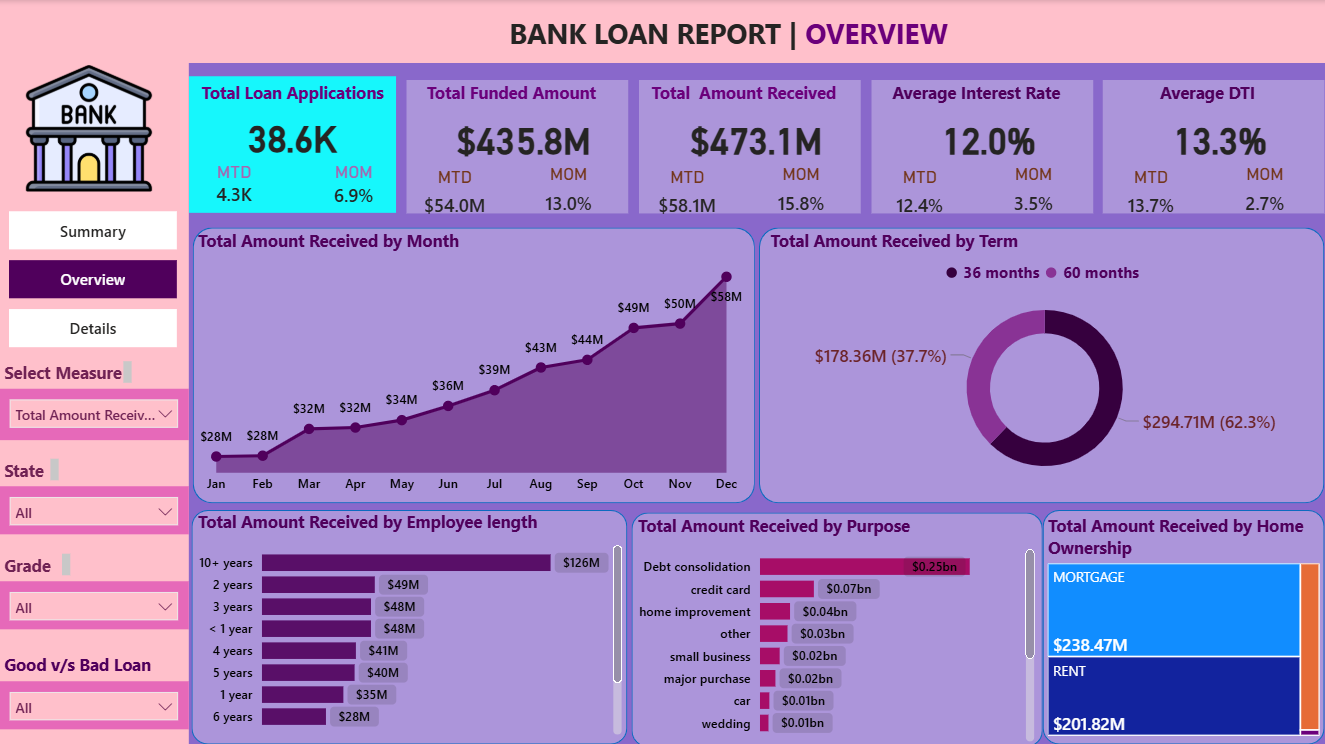

The dashboard page shown, as its layout file describes it:
{"tool":"powerbi","page":{"name":"Overview","canvas":[1280,720],"ordinal":1},"visuals":[{"type":"shape","box":[0,0,1279.8,60.9],"z":0},{"type":"shape","box":[182.8,73.7,199.8,131.8],"z":0,"group":"g1"},{"type":"shape","box":[393,77.2,214,129],"z":0,"group":"g2"},{"type":"shape","box":[617.2,77.2,214,129],"z":0,"group":"g3"},{"type":"shape","box":[841.5,77.2,214,129],"z":0,"group":"g4"},{"type":"shape","box":[1065.8,77.2,214,129],"z":0,"group":"g5"},{"type":"card","fields":{"Values":["Loan_report.Total Loan Applications"]},"box":[182.8,109.1,199.8,46.8],"z":1000,"group":"g1"},{"type":"card","fields":{"Values":["Loan_report.Total Funded Amount"]},"box":[406,109.8,199.8,46.8],"z":1000,"group":"g2"},{"type":"card","fields":{"Values":["Loan_report.Total Amount Received"]},"box":[630.2,109.8,199.8,46.8],"z":1000,"group":"g3"},{"type":"card","fields":{"Values":["Loan_report.Avg Interest Rate"]},"box":[854.5,109.8,199.8,46.8],"z":1000,"group":"g4"},{"type":"card","fields":{"Values":["Loan_report.Avg DTI"]},"box":[1078.8,109.8,199.8,46.8],"z":1000,"group":"g5"},{"type":"shape","box":[186.8,219.1,542.6,266.2],"z":1000},{"type":"shape","box":[0,54.3,183.4,666],"z":2000},{"type":"textbox","box":[182.8,73.7,199.8,35.4],"z":2000,"group":"g1"},{"type":"textbox","box":[393.6,73.7,199.8,35.4],"z":2000,"group":"g2"},{"type":"textbox","box":[617.8,73.7,199.8,35.4],"z":2000,"group":"g3"},{"type":"textbox","box":[842.1,73.7,199.8,35.4],"z":2000,"group":"g4"},{"type":"textbox","box":[1066.4,73.7,199.8,35.4],"z":2000,"group":"g5"},{"type":"textbox","box":[487.6,8.5,483.3,45.4],"z":3000},{"type":"card","title":"MTD","fields":{"Values":["Loan_report.MTD Loan Applications"]},"box":[201.2,155.9,51,48.2],"z":3000,"group":"g1"},{"type":"card","title":"MTD","fields":{"Values":["Loan_report.MTD Funded Amount"]},"box":[401.5,160.8,76.5,59.5],"z":3000,"group":"g2"},{"type":"card","title":"MTD","fields":{"Values":["Loan_report.MTD Amount Received"]},"box":[625.7,160.8,76.5,59.5],"z":3000,"group":"g3"},{"type":"card","title":"MTD","fields":{"Values":["Loan_report.MTD Avg Interest Rate"]},"box":[850,160.8,76.5,59.5],"z":3000,"group":"g4"},{"type":"card","title":"MTD","fields":{"Values":["Loan_report.MTD Avg DTI"]},"box":[1074.3,160.8,76.5,59.5],"z":3000,"group":"g5"},{"type":"group","id":"g1","title":"Group 1","box":[182.8,73.7,199.8,133.3],"z":4000},{"type":"card","title":"MOM","fields":{"Values":["Loan_report.MOM Loan Applications"]},"box":[308.6,155.9,67.2,51.1],"z":4000,"group":"g1"},{"type":"card","title":"MOM","fields":{"Values":["Loan_report.MOM Funded Amount"]},"box":[514.9,158,69.4,60.9],"z":4000,"group":"g2"},{"type":"card","title":"MOM","fields":{"Values":["Loan_report.MOM Amount Received"]},"box":[739.1,158,69.4,60.9],"z":4000,"group":"g3"},{"type":"card","title":"MOM","fields":{"Values":["Loan_report.MOM Avg Interest Rate"]},"box":[963.4,158,69.4,60.9],"z":4000,"group":"g4"},{"type":"card","title":"MOM","fields":{"Values":["Loan_report.MOM Avg DTI"]},"box":[1187.7,158,69.4,60.9],"z":4000,"group":"g5"},{"type":"group","id":"g2","title":"Group 1","box":[393,73.7,214,146],"z":5000},{"type":"group","id":"g3","title":"Group 1","box":[617.2,73.7,214,147.4],"z":6000},{"type":"group","id":"g4","title":"Group 1","box":[841.5,73.7,214,147.4],"z":7000},{"type":"group","id":"g5","title":"Group 1","box":[1065.8,73.7,214,147.4],"z":8000},{"type":"slicer","fields":{"Values":["Loan_report.address_state"]},"box":[0,469.1,182.8,46.8],"z":9000},{"type":"textbox","box":[0,438,62.4,31.2],"z":10000},{"type":"slicer","fields":{"Values":["Loan_report.Good v/s Bad loan"]},"box":[0,657.6,182.8,46.8],"z":11000},{"type":"textbox","box":[0,530.1,73.7,31.2],"z":12000},{"type":"slicer","fields":{"Values":["Loan_report.grade"]},"box":[0,561.3,182.8,46.8],"z":13000},{"type":"textbox","box":[0,625,182.8,32.6],"z":14000},{"type":"areaChart","fields":{"Y":["Loan_report.Total Amount Received"],"Category":["Date Table.Month"]},"box":[186.8,220.6,538.2,264.7],"z":15000},{"type":"slicer","fields":{"Values":["Select Measure.Select Measure"]},"box":[0,375.6,182.8,49.6],"z":16000},{"type":"textbox","box":[0,344.4,133.2,31.2],"z":17000},{"type":"shape","box":[733.8,219.1,545.6,266.2],"z":18000},{"type":"donutChart","fields":{"Y":["Loan_report.Total Amount Received"],"Category":["Loan_report.term"]},"box":[739.7,220.6,539.7,254.4],"z":19000},{"type":"shape","box":[185.3,492.6,420.6,226.5],"z":20000},{"type":"barChart","fields":{"Y":["Loan_report.Total Amount Received"],"Category":["Loan_report.emp_length"]},"box":[186.8,492.6,419.1,222.1],"z":21000},{"type":"shape","box":[610.3,494.1,397.1,226.5],"z":22000},{"type":"barChart","fields":{"Y":["Loan_report.Total Amount Received"],"Category":["Loan_report.purpose"]},"box":[611.8,495.6,392.6,225],"z":23000},{"type":"shape","box":[1007.4,492.6,272.1,226.5],"z":24000},{"type":"treemap","fields":{"Values":["Loan_report.Total Amount Received"],"Group":["Loan_report.home_ownership"]},"box":[1007.4,495.6,272.1,219.1],"z":25000},{"type":"pageNavigator","box":[9.9,204.1,163,133.2],"z":26000},{"type":"image","box":[0,58.1,172.9,131.8],"z":27000}]}

Visuals, with their boxes in screenshot pixels (x1, y1, x2, y2), scaled from the page's 1280x720 canvas onto the 1325x744 screenshot:
shape: [x1=0, y1=0, x2=1324, y2=63]
shape: [x1=189, y1=76, x2=396, y2=212]
shape: [x1=407, y1=80, x2=628, y2=213]
shape: [x1=639, y1=80, x2=860, y2=213]
shape: [x1=871, y1=80, x2=1093, y2=213]
shape: [x1=1103, y1=80, x2=1324, y2=213]
card - Loan_report.Total Loan Applications: [x1=189, y1=113, x2=396, y2=161]
card - Loan_report.Total Funded Amount: [x1=420, y1=113, x2=627, y2=162]
card - Loan_report.Total Amount Received: [x1=652, y1=113, x2=859, y2=162]
card - Loan_report.Avg Interest Rate: [x1=885, y1=113, x2=1091, y2=162]
card - Loan_report.Avg DTI: [x1=1117, y1=113, x2=1324, y2=162]
shape: [x1=193, y1=226, x2=755, y2=501]
shape: [x1=0, y1=56, x2=190, y2=743]
textbox: [x1=189, y1=76, x2=396, y2=113]
textbox: [x1=407, y1=76, x2=614, y2=113]
textbox: [x1=640, y1=76, x2=846, y2=113]
textbox: [x1=872, y1=76, x2=1079, y2=113]
textbox: [x1=1104, y1=76, x2=1311, y2=113]
textbox: [x1=505, y1=9, x2=1005, y2=56]
"MTD" card: [x1=208, y1=161, x2=261, y2=211]
"MTD" card: [x1=416, y1=166, x2=495, y2=228]
"MTD" card: [x1=648, y1=166, x2=727, y2=228]
"MTD" card: [x1=880, y1=166, x2=959, y2=228]
"MTD" card: [x1=1112, y1=166, x2=1191, y2=228]
"Group 1" group: [x1=189, y1=76, x2=396, y2=214]
"MOM" card: [x1=319, y1=161, x2=389, y2=214]
"MOM" card: [x1=533, y1=163, x2=605, y2=226]
"MOM" card: [x1=765, y1=163, x2=837, y2=226]
"MOM" card: [x1=997, y1=163, x2=1069, y2=226]
"MOM" card: [x1=1229, y1=163, x2=1301, y2=226]
"Group 1" group: [x1=407, y1=76, x2=628, y2=227]
"Group 1" group: [x1=639, y1=76, x2=860, y2=228]
"Group 1" group: [x1=871, y1=76, x2=1093, y2=228]
"Group 1" group: [x1=1103, y1=76, x2=1324, y2=228]
slicer - Loan_report.address_state: [x1=0, y1=485, x2=189, y2=533]
textbox: [x1=0, y1=453, x2=65, y2=485]
slicer - Loan_report.Good v/s Bad loan: [x1=0, y1=680, x2=189, y2=728]
textbox: [x1=0, y1=548, x2=76, y2=580]
slicer - Loan_report.grade: [x1=0, y1=580, x2=189, y2=628]
textbox: [x1=0, y1=646, x2=189, y2=680]
areaChart - Loan_report.Total Amount Received x Date Table.Month: [x1=193, y1=228, x2=750, y2=501]
slicer - Select Measure.Select Measure: [x1=0, y1=388, x2=189, y2=439]
textbox: [x1=0, y1=356, x2=138, y2=388]
shape: [x1=760, y1=226, x2=1324, y2=501]
donutChart - Loan_report.Total Amount Received x Loan_report.term: [x1=766, y1=228, x2=1324, y2=491]
shape: [x1=192, y1=509, x2=627, y2=743]
barChart - Loan_report.Total Amount Received x Loan_report.emp_length: [x1=193, y1=509, x2=627, y2=739]
shape: [x1=632, y1=511, x2=1043, y2=743]
barChart - Loan_report.Total Amount Received x Loan_report.purpose: [x1=633, y1=512, x2=1040, y2=743]
shape: [x1=1043, y1=509, x2=1324, y2=743]
treemap - Loan_report.Total Amount Received x Loan_report.home_ownership: [x1=1043, y1=512, x2=1324, y2=739]
pageNavigator: [x1=10, y1=211, x2=179, y2=349]
image: [x1=0, y1=60, x2=179, y2=196]
